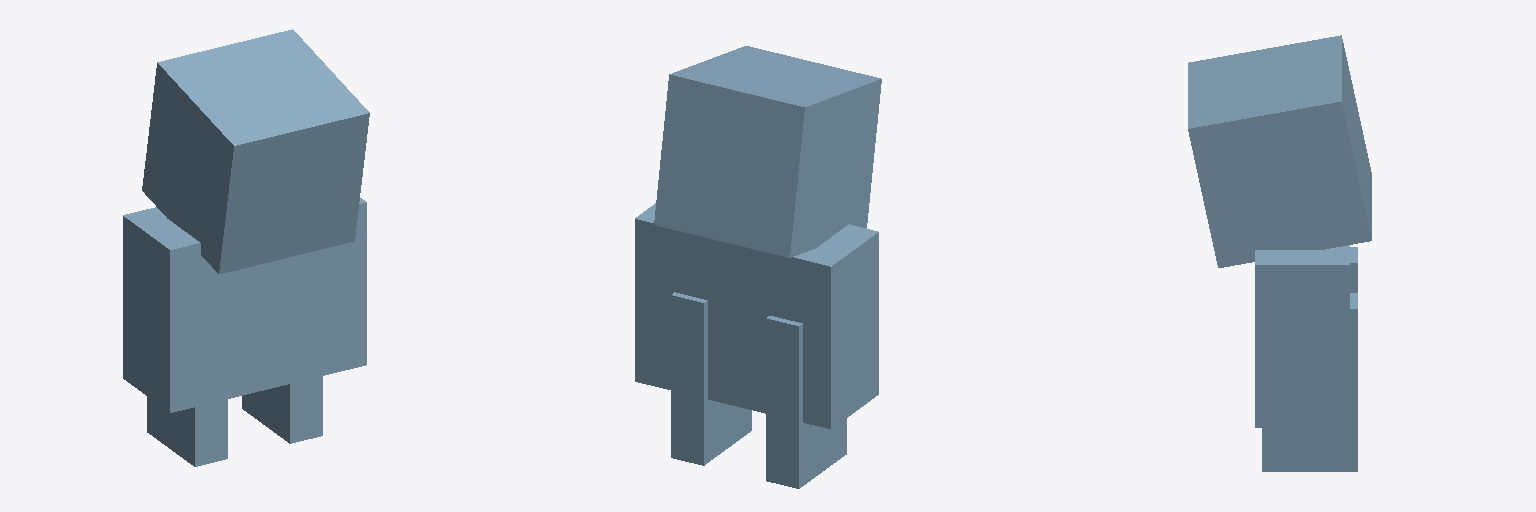
Rendered from target.obj.
The picture shows the model from 3 angles: view 1: azimuth 30°, elevation 25°; view 2: azimuth 150°, elevation 25°; view 3: azimuth 270°, elevation 25°; orthographic projection.
Visible parts, largest first — view 1: Cube.4; view 2: Cube.4; view 3: Cube.4.
Part boxes in pixels (bbox=[...]): Cube.4: bbox=[123, 29, 369, 466]; Cube.4: bbox=[635, 46, 881, 488]; Cube.4: bbox=[1188, 35, 1371, 471].
Bounding box in the file's own units: 5.82 × 10.61 × 4.72.